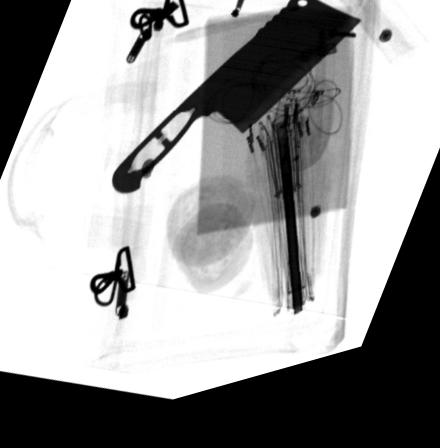Knife: (111, 10, 362, 200)
